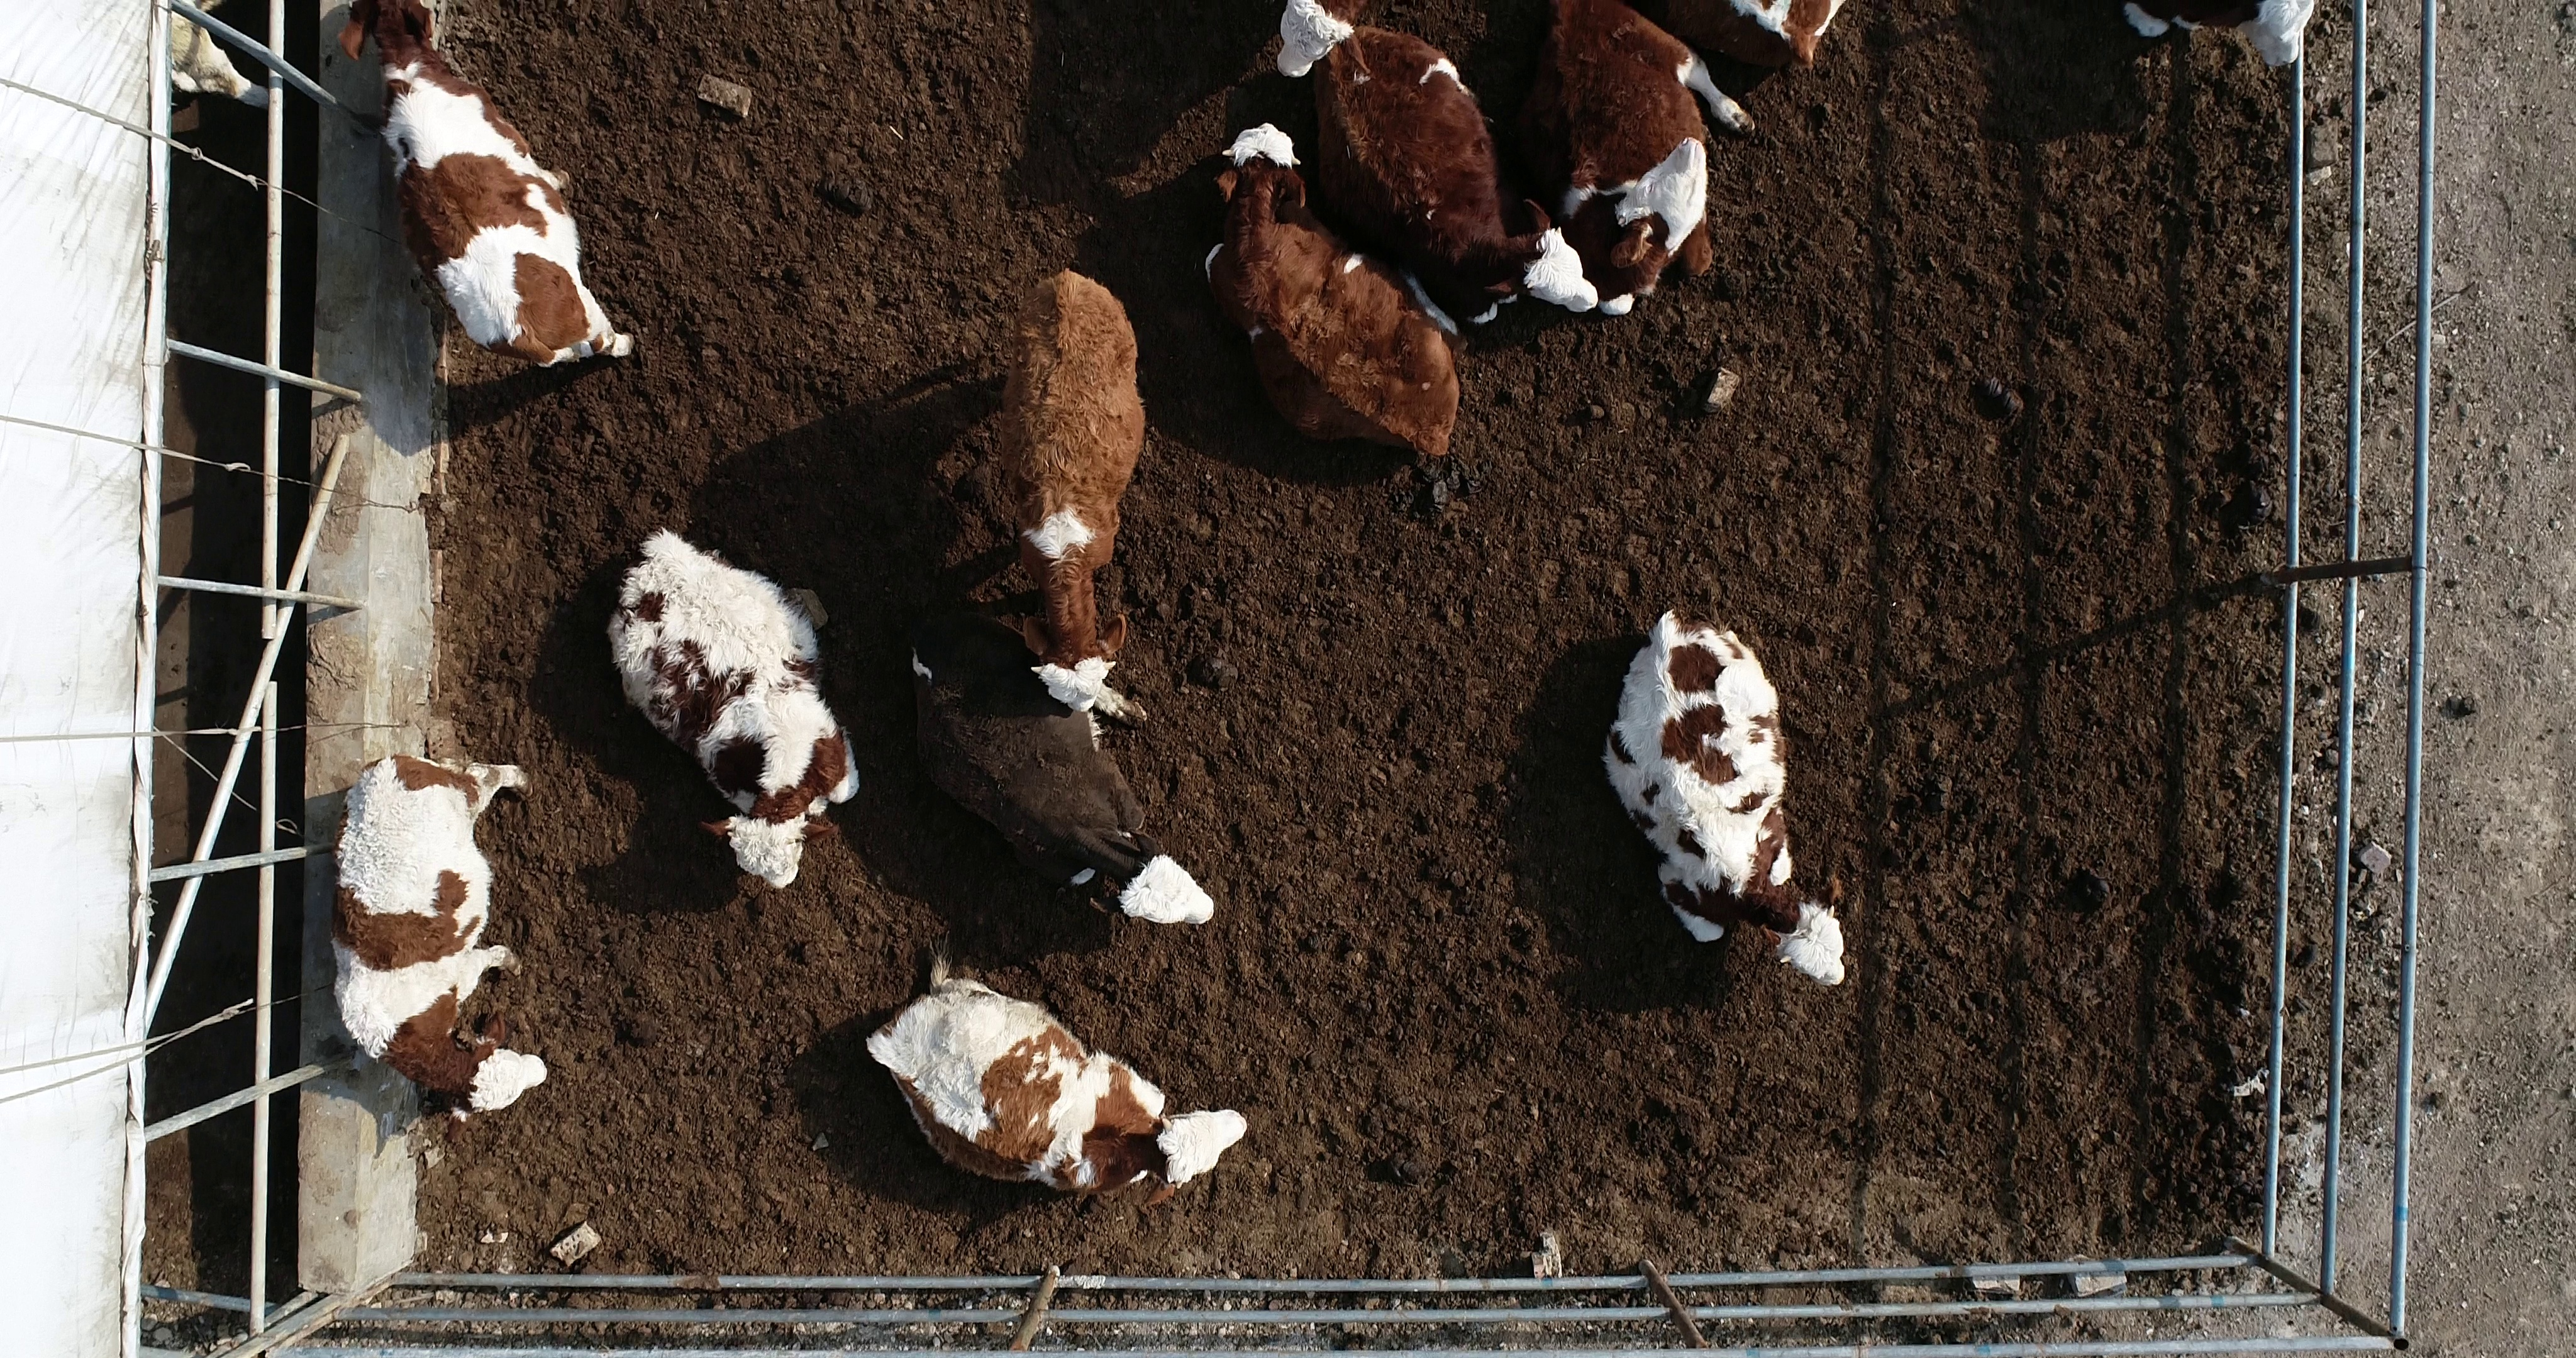cattle: (852, 927, 1254, 1210), (337, 2, 639, 373), (1595, 605, 1857, 998), (601, 528, 872, 901), (324, 751, 559, 1150), (997, 259, 1153, 719)
